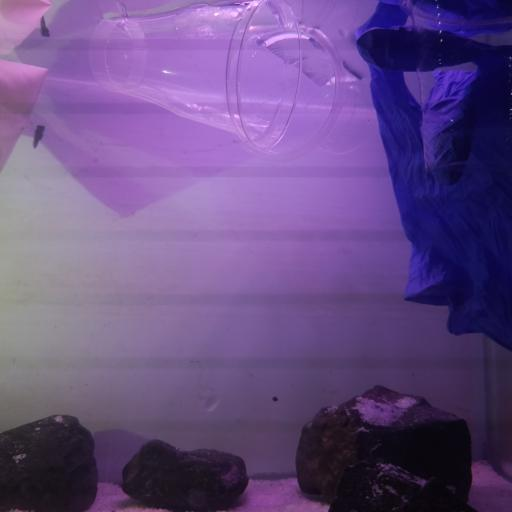glove: (352, 2, 512, 352), (0, 2, 55, 170)
plastic_cup: (84, 0, 304, 157), (234, 28, 373, 160)
